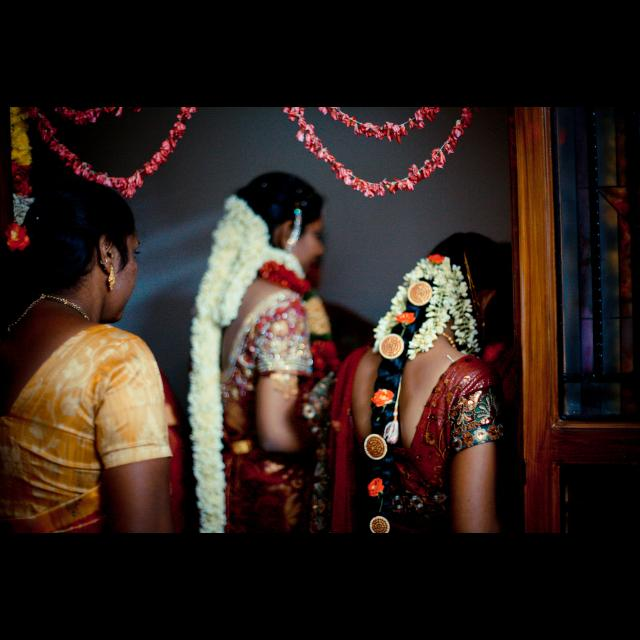Flower: (0, 107, 196, 251), (279, 107, 475, 203)
